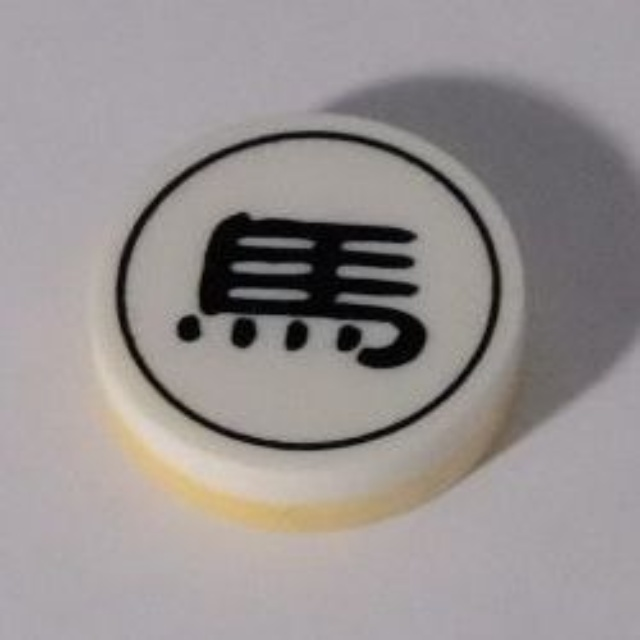black_ma: (75, 104, 544, 525)
